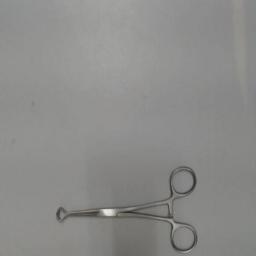Babcock Tissue Forceps: (54, 160, 200, 254)
